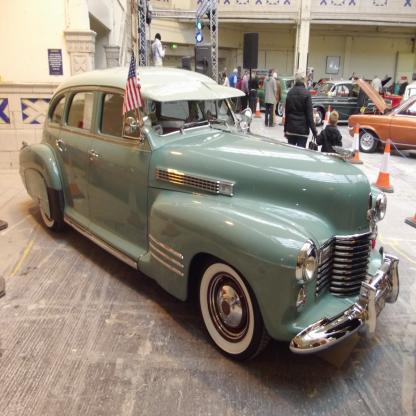Car: (21, 67, 400, 361), (349, 81, 416, 154), (313, 82, 394, 125), (259, 79, 296, 117)
